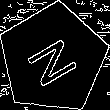N_NE: (22, 29, 85, 89)
